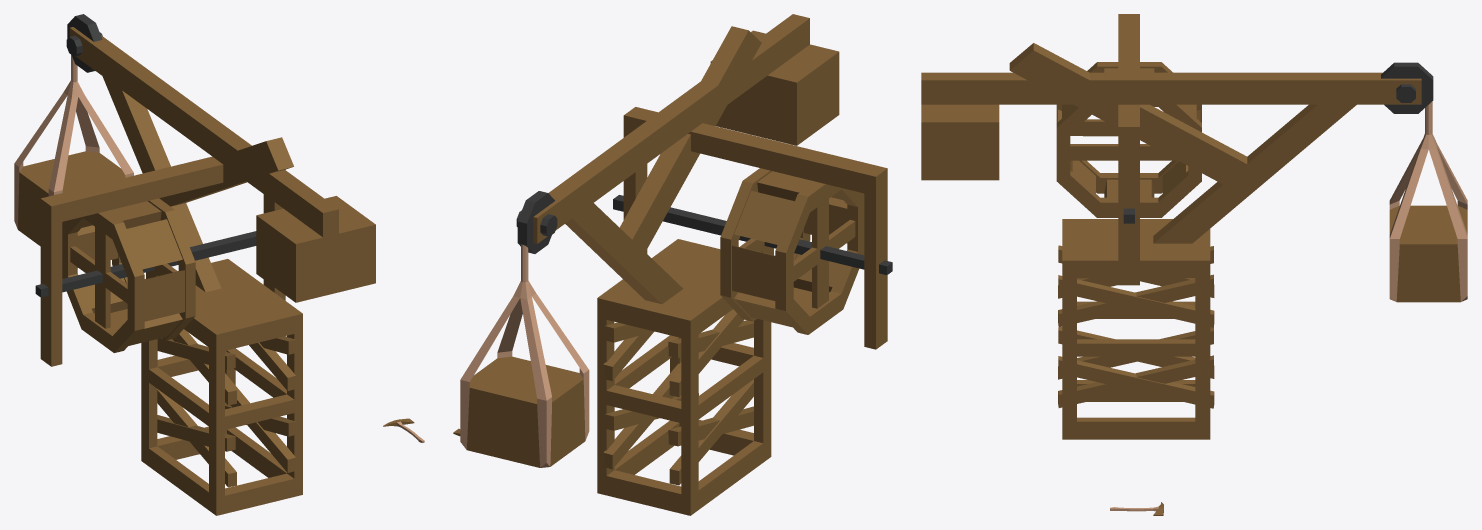
File: MINERY ASSETS.fbx
3 views of the same model, side by side, from view 1: azimuth 30°, elevation 25°; view 2: azimuth 150°, elevation 25°; view 3: azimuth 270°, elevation 25° (orthographic). The views are drawn at different scales.
Visible parts, largest first — view 1: Cube, Cube.001; view 2: Cube, Cube.001; view 3: Cube, Cube.001.
Part boxes in pixels (x1,y1,x2,y2): Cube: (35,14,375,515); Cube.001: (14,54,133,246); Cube: (516,14,892,515); Cube.001: (460,244,589,467); Cube: (921,14,1433,439); Cube.001: (1389,101,1467,302).
Size of the model in its own units: 448 by 418 by 553.
